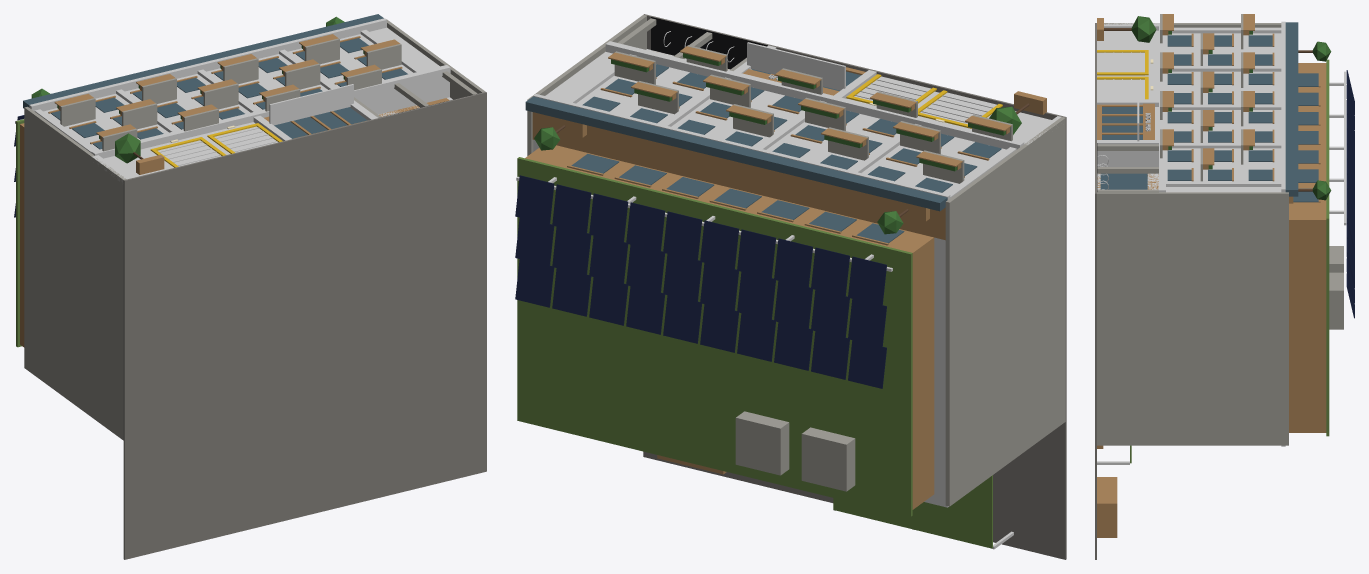
Rendered from SolarpunkLocalHubLarge01.fbx.
The picture shows the model from 3 angles, left to right: view 1: azimuth 30°, elevation 25°; view 2: azimuth 150°, elevation 25°; view 3: azimuth 270°, elevation 25°; orthographic projection. The views are drawn at different scales.
Visible parts, largest first — view 1: SolarpunkLocalHubLarge01; view 2: SolarpunkLocalHubLarge01; view 3: SolarpunkLocalHubLarge01.
Part boxes in pixels (<box>): SolarpunkLocalHubLarge01: <box>14,14,486,559</box>; SolarpunkLocalHubLarge01: <box>515,14,1066,559</box>; SolarpunkLocalHubLarge01: <box>1095,14,1354,559</box>.
Size of the model in its own units: 3200 by 3362 by 2057.
Materials: 1 (1 with a texture image).
